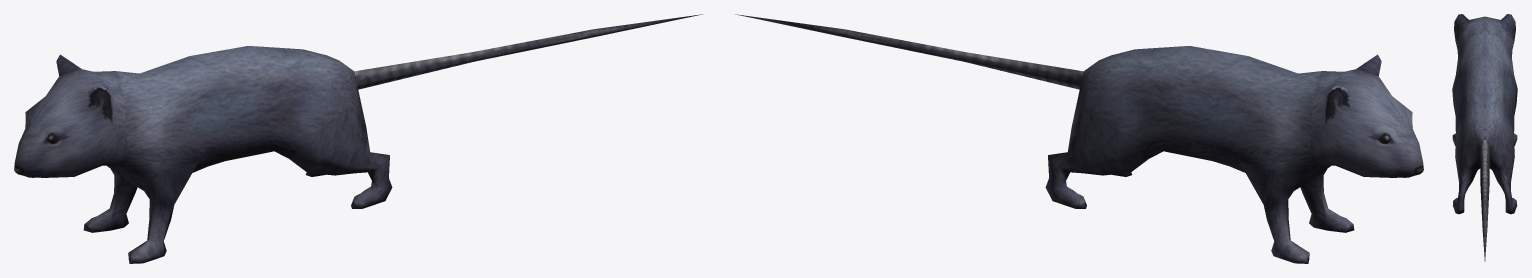
Rendered from JianKongJieDao_01_laoshu_01.FBX.
3 renders of one model, left to right at view 1: azimuth 30°, elevation 25°; view 2: azimuth 150°, elevation 25°; view 3: azimuth 270°, elevation 25°, orthographic. The views are drawn at different scales.
Parts seen in each view (by area): view 1: JianKongJieDao_01_laoshu_01; view 2: JianKongJieDao_01_laoshu_01; view 3: JianKongJieDao_01_laoshu_01.
Boxes of the visible parts, x1,y1,x2,y2 form: JianKongJieDao_01_laoshu_01: (14,14,702,263); JianKongJieDao_01_laoshu_01: (735,14,1423,263); JianKongJieDao_01_laoshu_01: (1452,14,1517,261).
Bounding box in the file's own units: 95.51 × 24.26 × 12.61.
